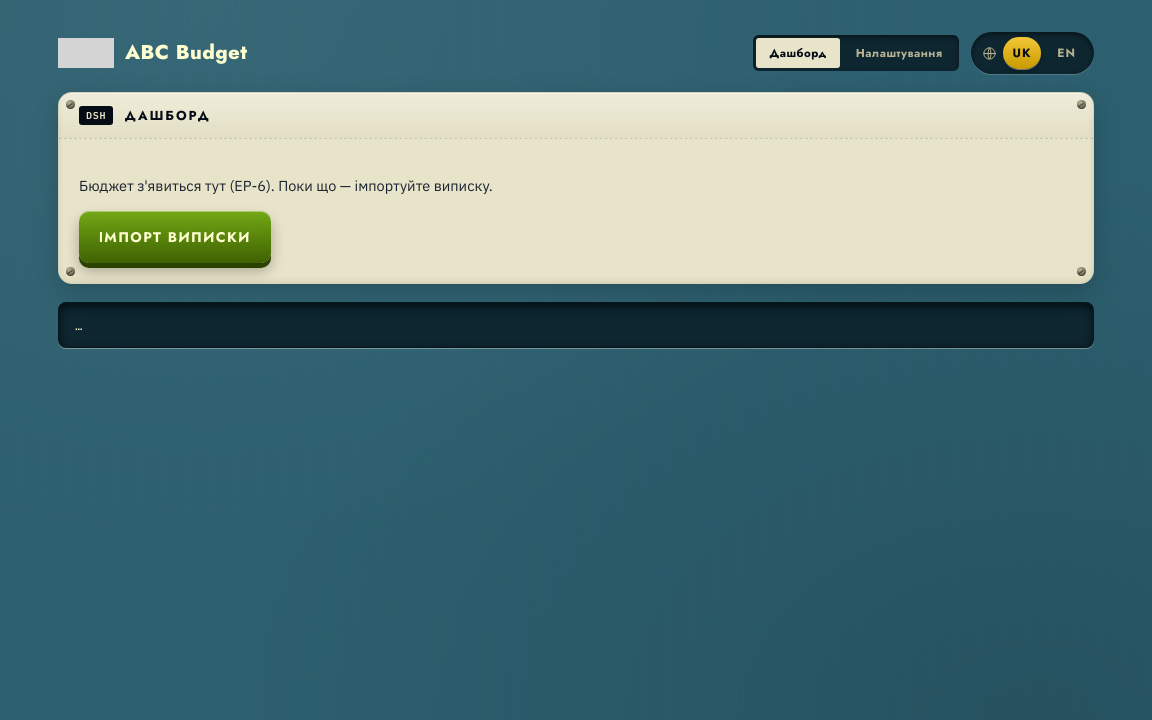
Test case: i18n shell behavior (1.4) › switching to EN re-renders chrome (zone labels) and back
Step 1. Click the button "EN" → (1067, 53), box [1047,37,1086,69]
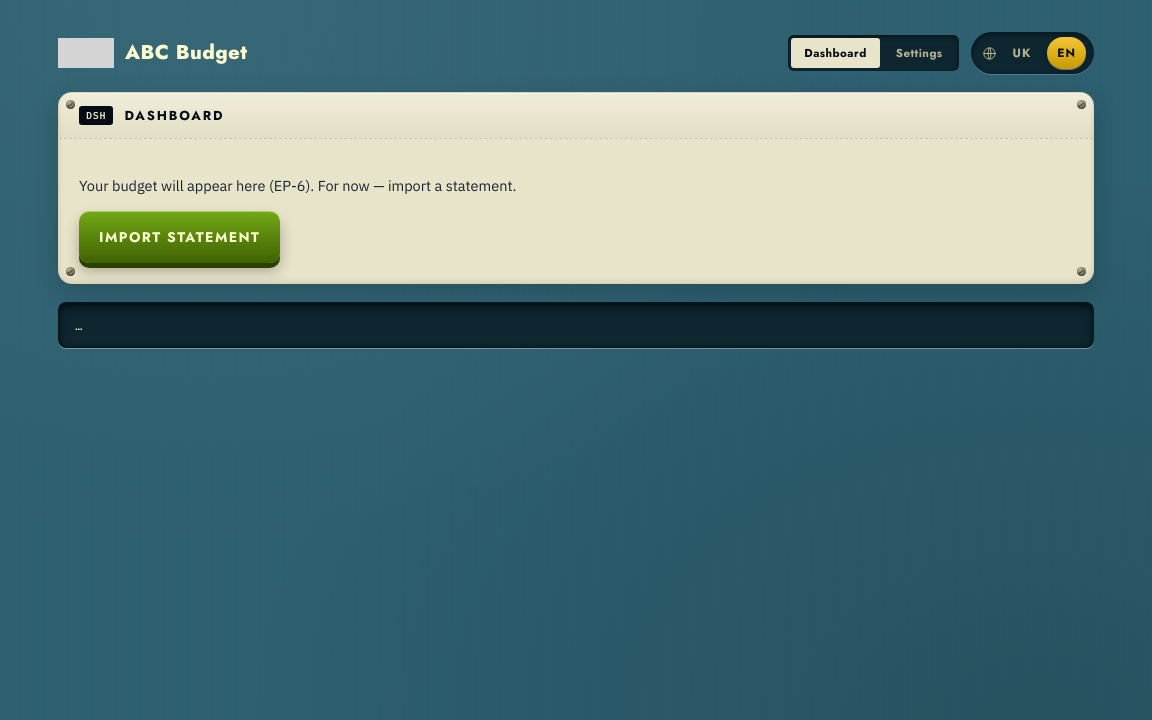
Expected: the link "Dashboard" is shown, [791,38,880,68]
Expected: the link "Settings" is shown, [896,45,943,61]
Step 2. Click the button "UK" → (1022, 53), box [1003,37,1041,69]
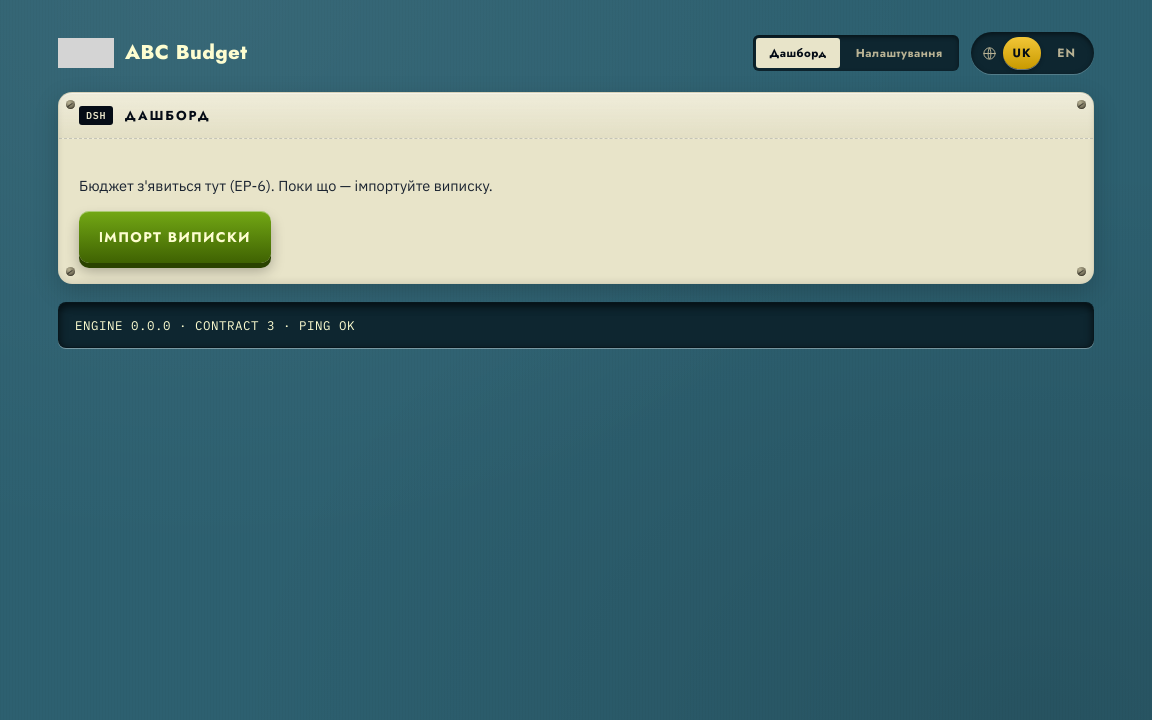
Now the link "Дашборд" is shown, box [756,38,840,68]
